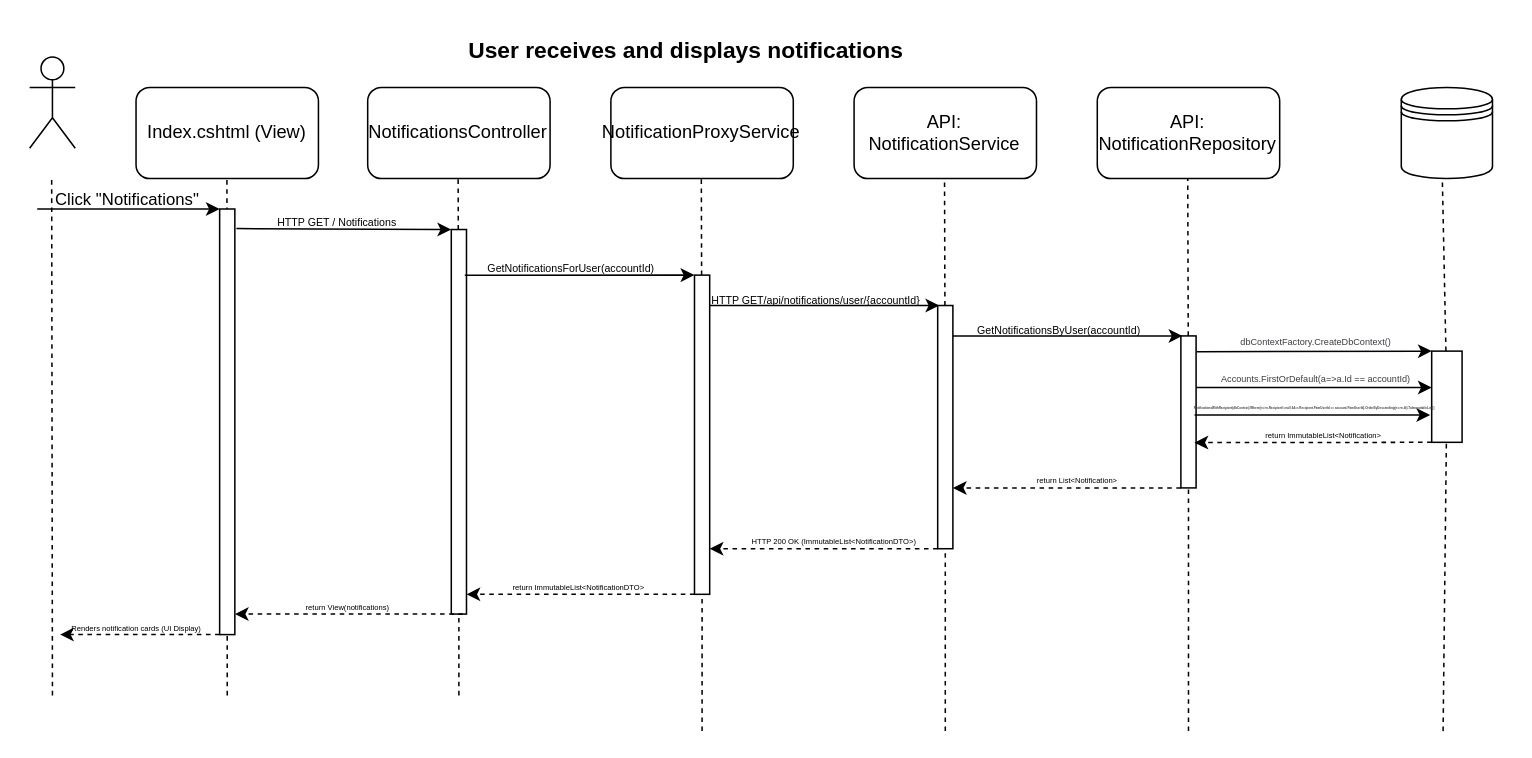
Some shapes in this 1532 by 758 pixel diagram are drawn without their labels. The shapes that lost their labels are listed below. From the top down, each one's centre as x and y in pixels, then its label:
At pixel 51 101: "User".
At pixel 1446 132: "AppDbContext".
